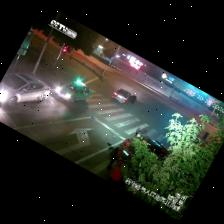person: (108, 161, 123, 184), (107, 147, 121, 170)
